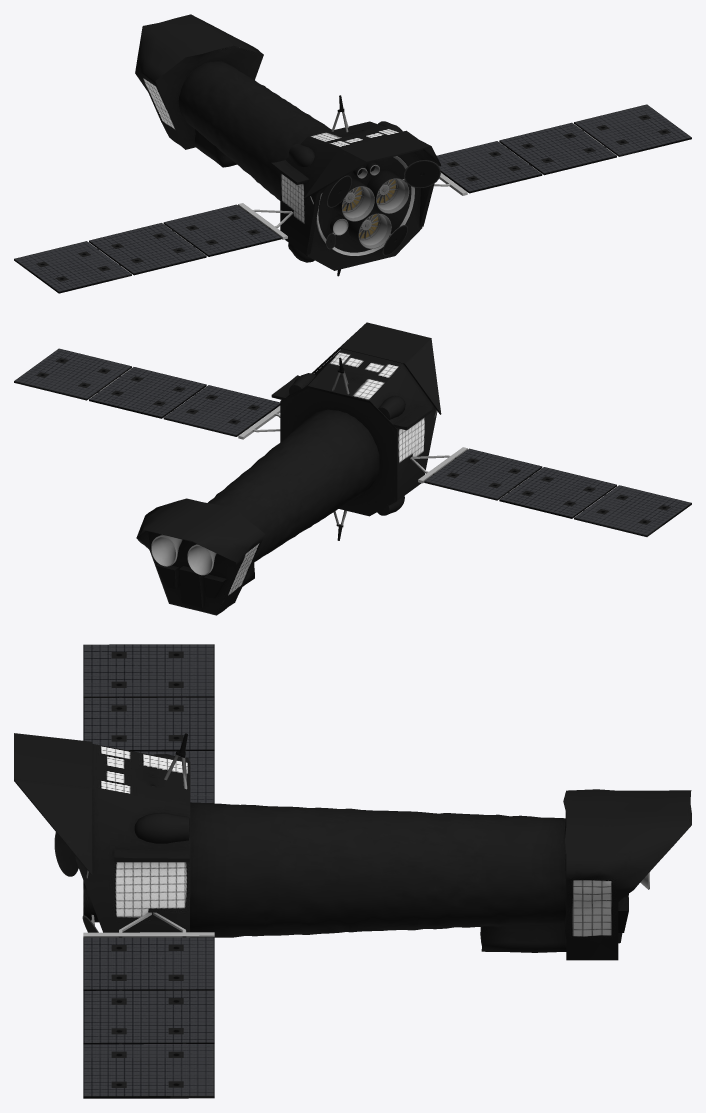
Rendered from sc_xmm_newton.glb.
3 renders of one model, top to bottom at view 1: azimuth 30°, elevation 25°; view 2: azimuth 150°, elevation 25°; view 3: azimuth 270°, elevation 25°, orthographic. The views are drawn at different scales.
Visible parts, largest first — view 1: xmm_Mat_01; view 2: xmm_Mat_01; view 3: xmm_Mat_01.
Part boxes in pixels (x1,y1,x2,y2): xmm_Mat_01: (14, 14, 691, 293); xmm_Mat_01: (14, 322, 691, 615); xmm_Mat_01: (14, 644, 691, 1098).
Size of the model in its own units: 1.79 by 0.4893 by 1.13.
Materials: 1 (1 with a texture image).
